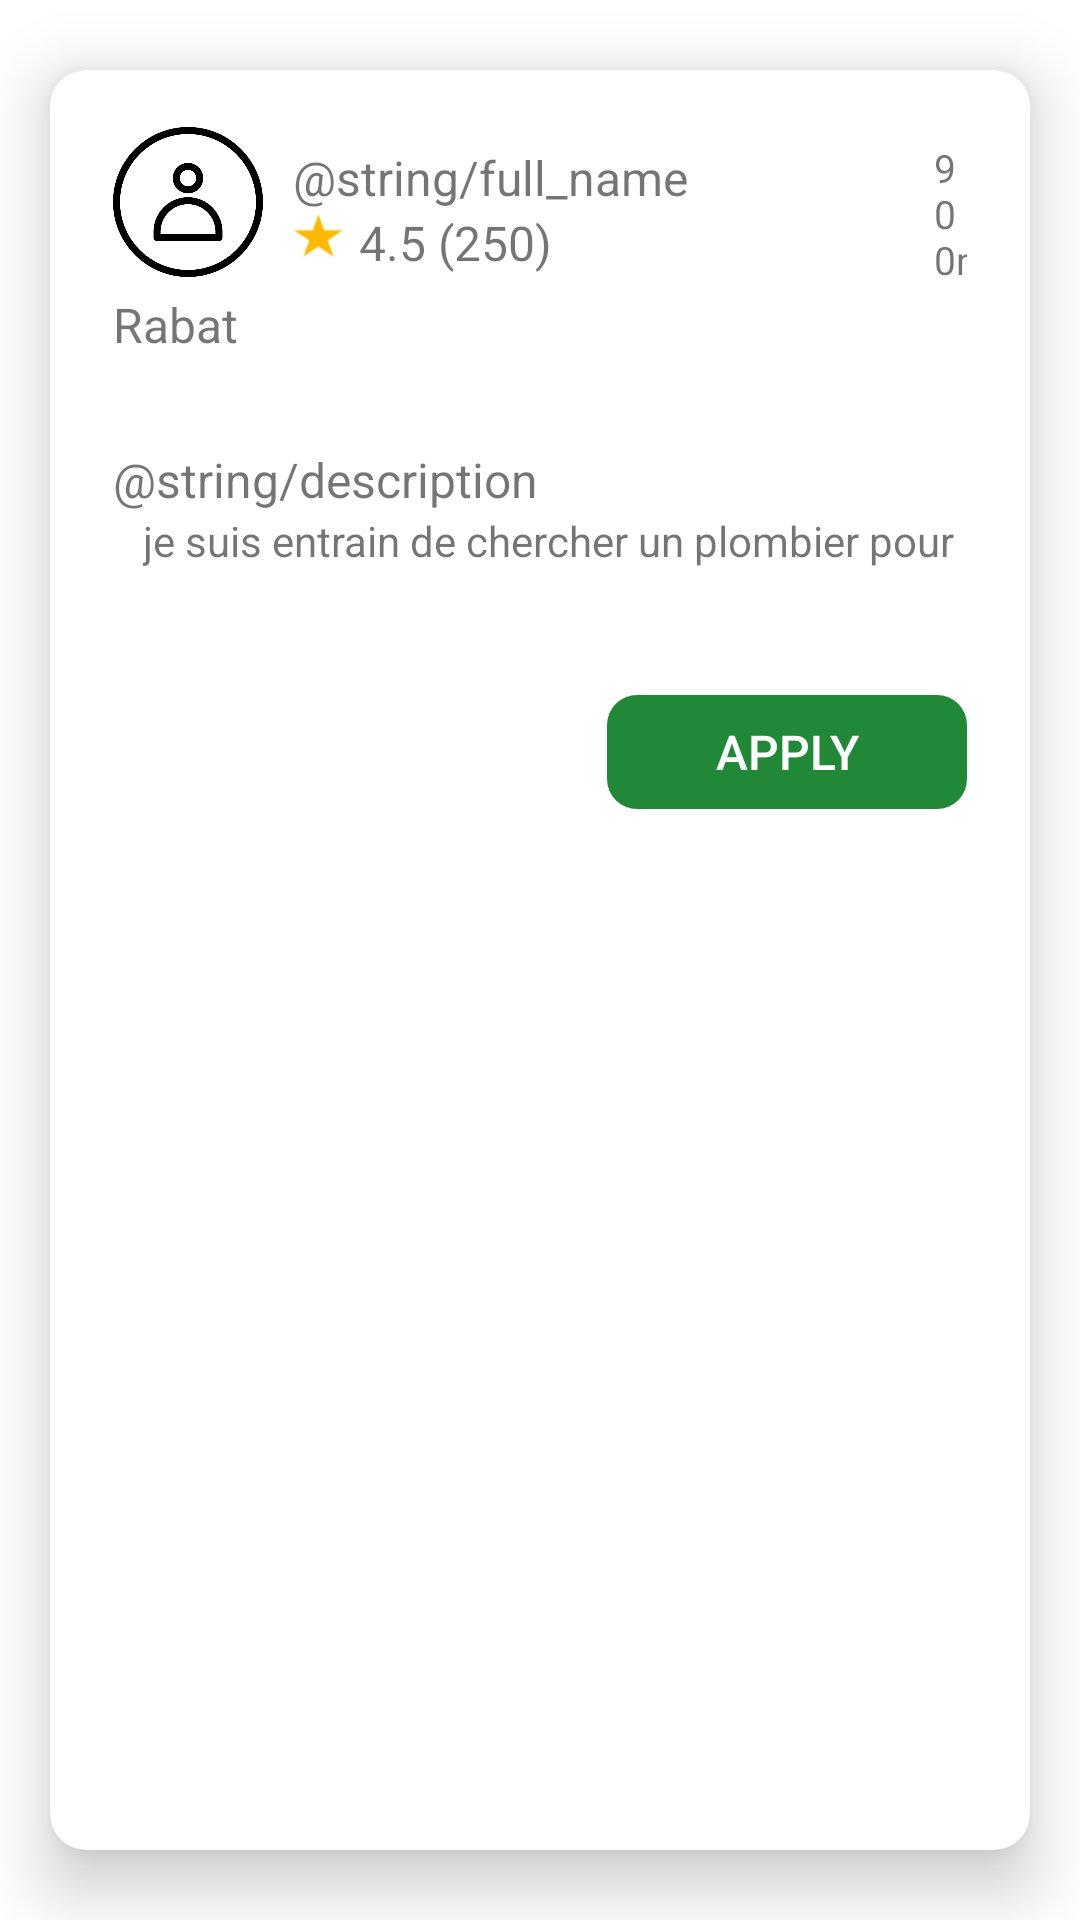

Icon bounding boxes for this 1080×1920 phone screenshot, format (left=x1, top=y1, right=x2, bottom=y2):
photo: (left=113, top=127, right=263, bottom=277)
star: (left=294, top=214, right=343, bottom=257)
